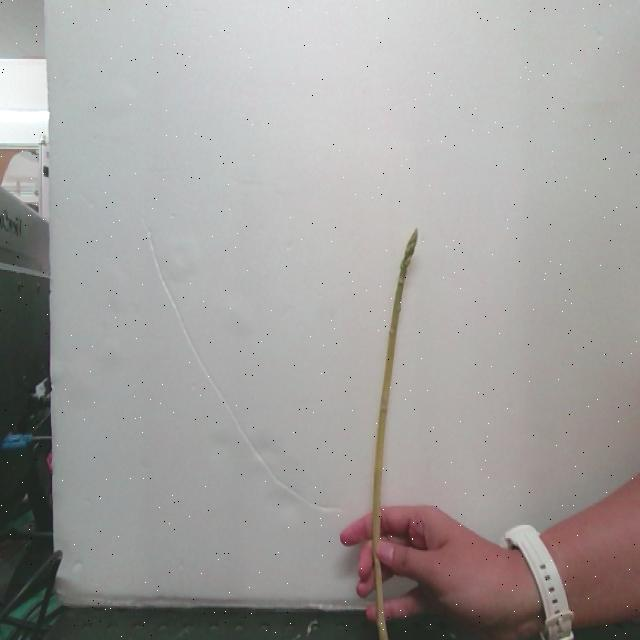aspargus: (368, 233, 420, 640)
